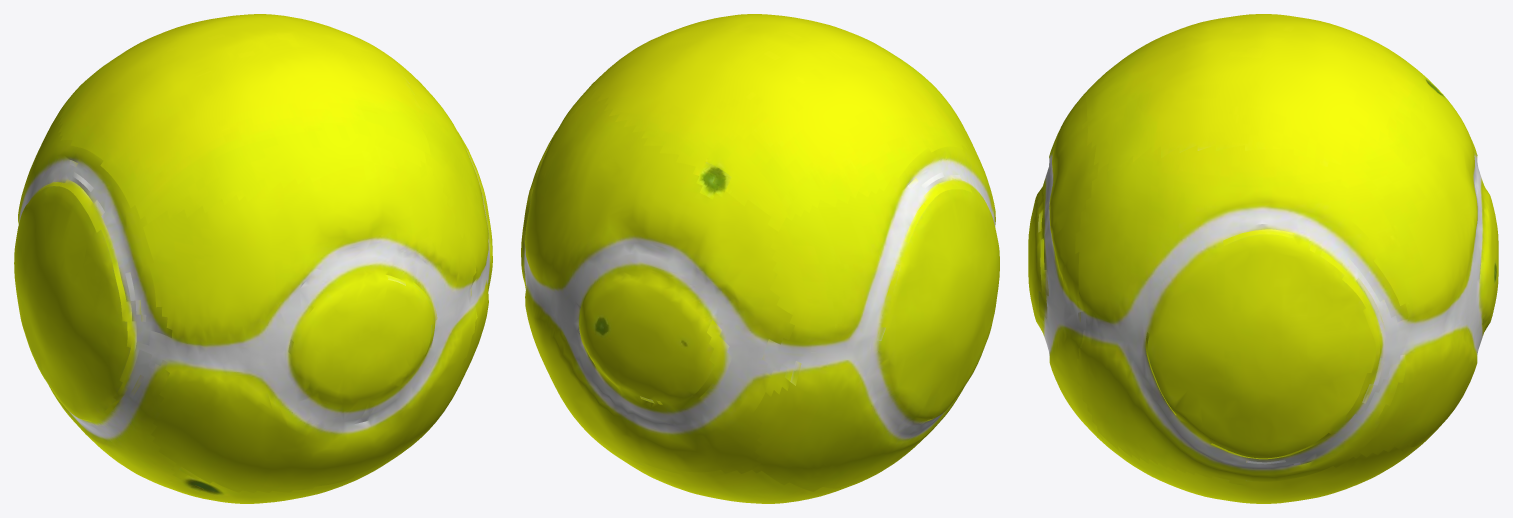
The model's file is padel-ball.glb.
3 renders of one model, left to right at view 1: azimuth 30°, elevation 25°; view 2: azimuth 150°, elevation 25°; view 3: azimuth 270°, elevation 25°, orthographic.
Parts seen in each view (by area): view 1: Mesh_0; view 2: Mesh_0; view 3: Mesh_0.
Part boxes in pixels (<box>): Mesh_0: <box>14,14,492,503</box>; Mesh_0: <box>521,14,999,503</box>; Mesh_0: <box>1028,14,1498,503</box>.
Size of the model in its own units: 0.9686 by 1 by 0.9602.
1 material, 1 textured.
